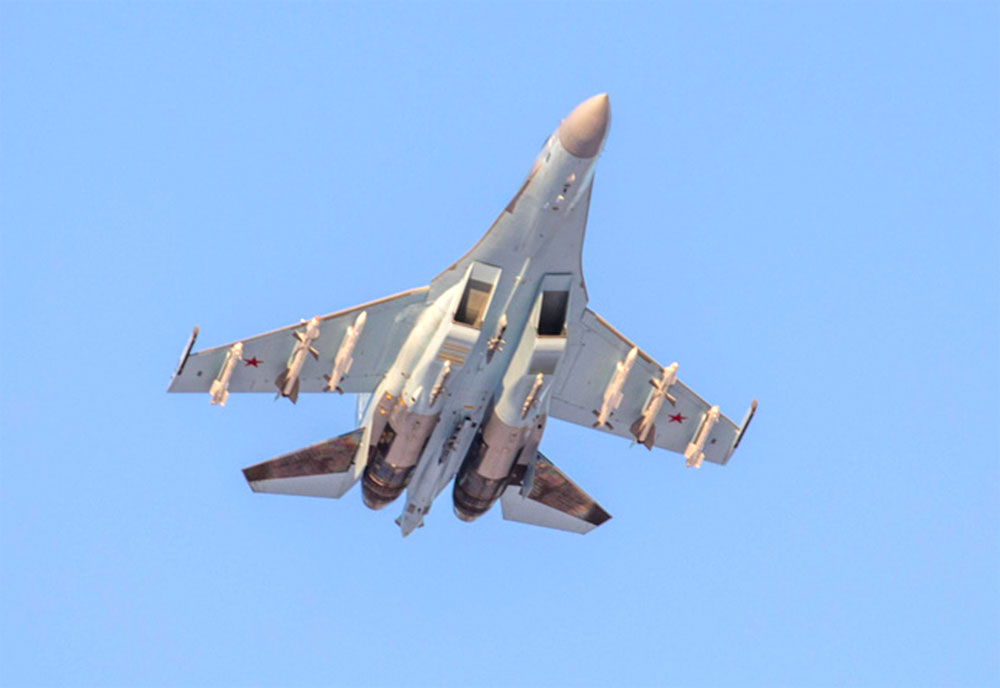Su35: (157, 83, 765, 544)
